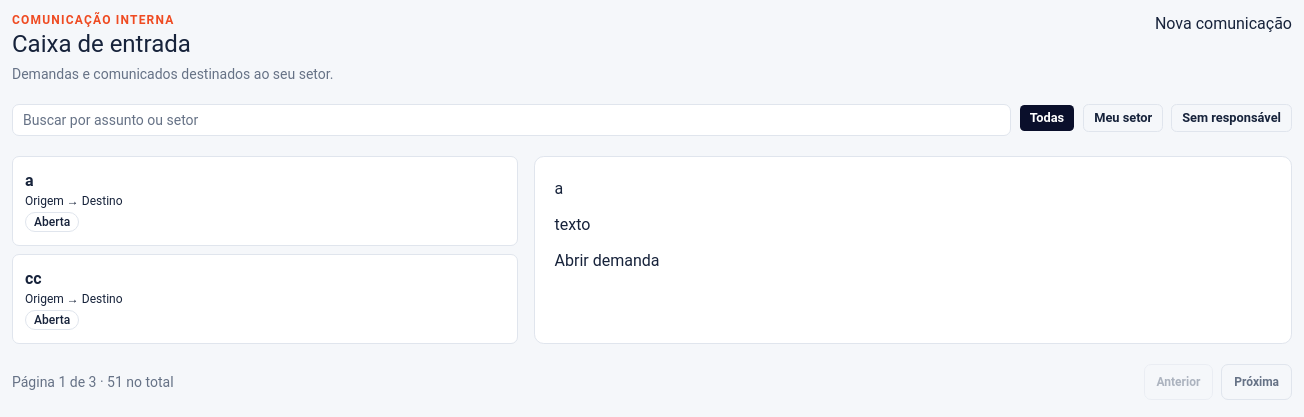
Test case: InboxPage › filtra Meu setor também por ciência e remove seleção oculta
This screenshot has width=1304, height=417.
Click the button "a Origem → Destino Aberta": (44, 201) [12,156,518,246]
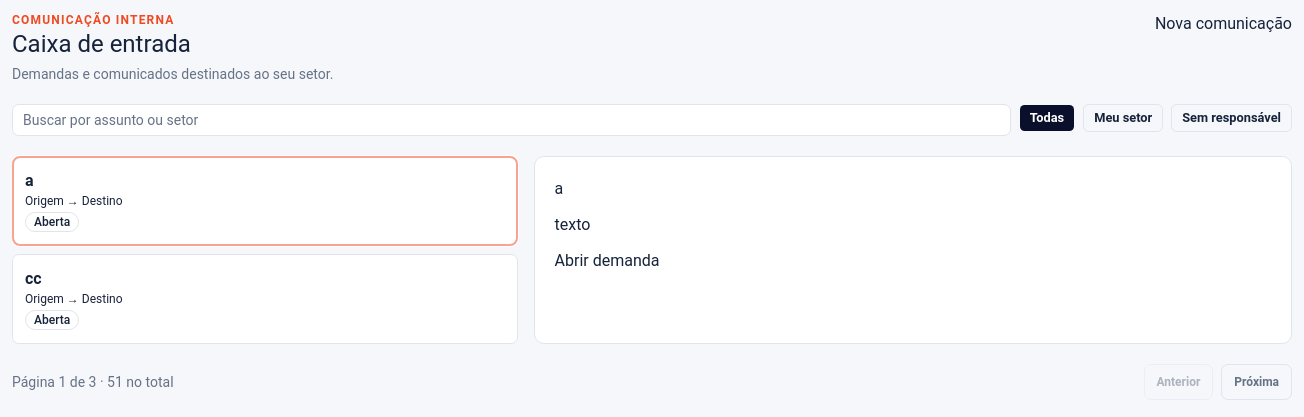
Click the button "Meu setor": (1123, 118) [1083,104,1163,132]
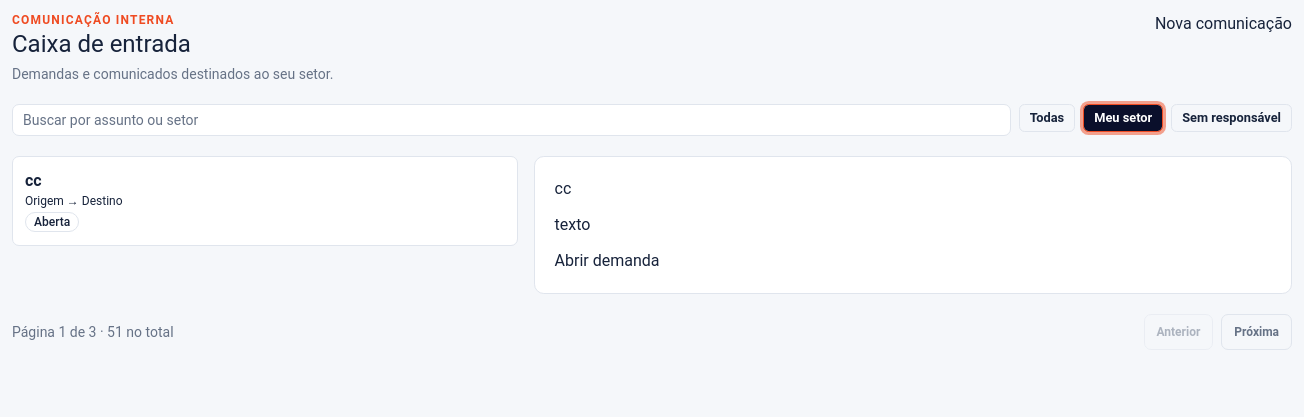
Result: the button "a Origem → Destino Aberta" is gone
Result: the heading "cc" is shown at [555,179,571,198]
